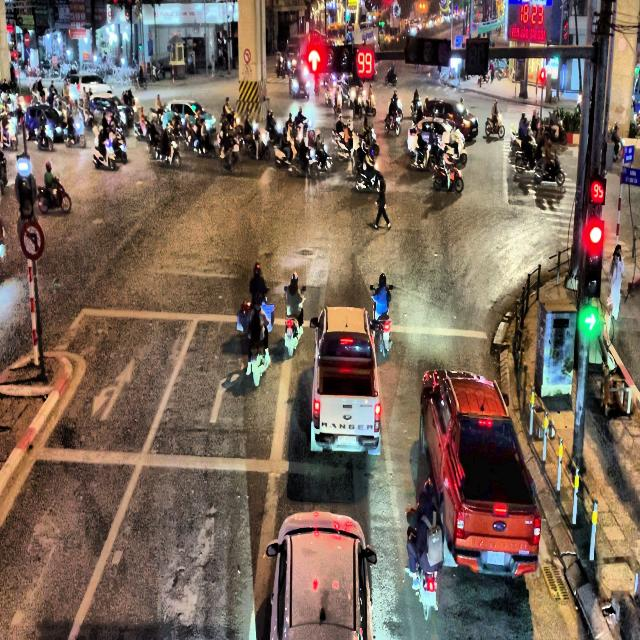lisence_plate: (486, 548, 506, 566), (334, 434, 359, 448)
